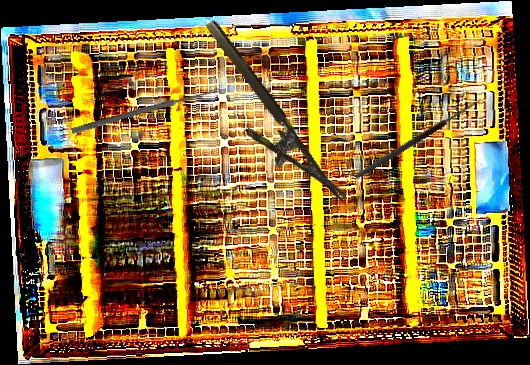Hook Surgical: (350, 89, 484, 181)
Needle Holder: (181, 17, 348, 224)
Surgical Spoon: (71, 85, 221, 136)
